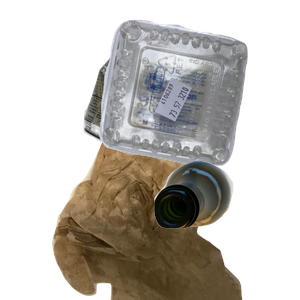glass: (151, 158, 300, 300)
metal: (81, 41, 234, 178)
plastic: (97, 17, 300, 176)
trash: (50, 120, 285, 300)
